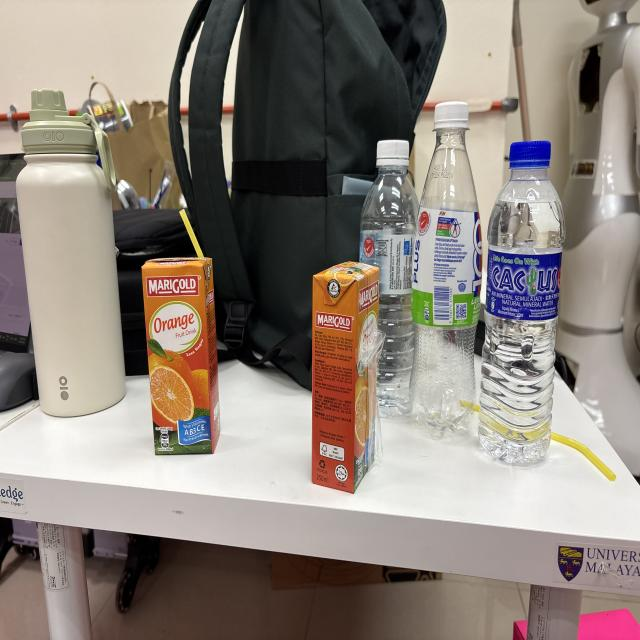drink_carton: (136, 207, 226, 469), (309, 251, 385, 490)
plastic_bottle: (470, 134, 567, 483), (408, 95, 486, 452), (356, 136, 426, 427)
